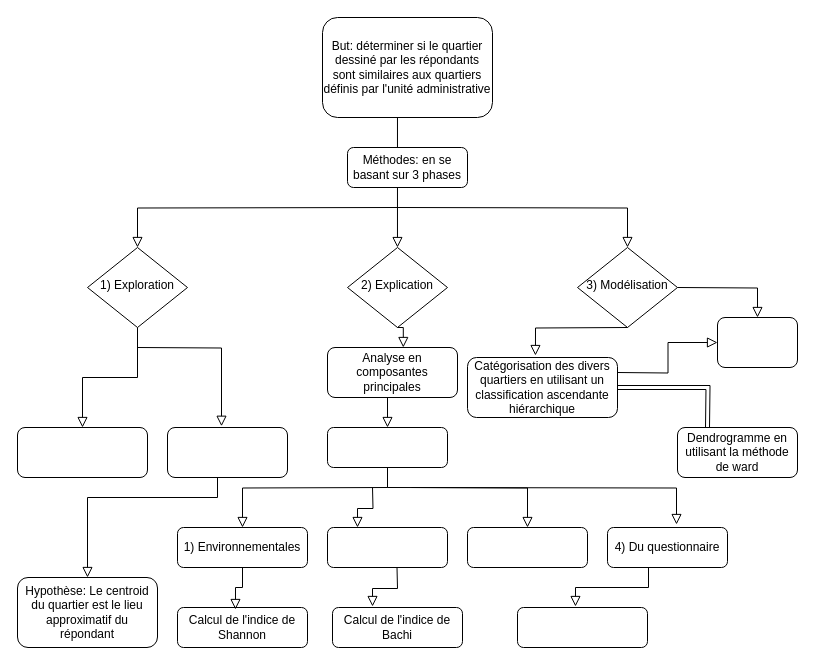
The diagram is 815 pixels wide and 665 high, and some of its shapes have lost their labels. Each missing label, with the centre of its shape:
2) Démographique: (387,547)
3) De police: (527,547)
A l'aide de divers cartes de chaleurs: (582,627)
Carte de chaleur sur la préférence des chemins: (82,452)
Carte sur les limites ressenties du quartier: (227,452)
Cartographie des quartiers: (757,342)
Variables utilisées:: (387,447)
